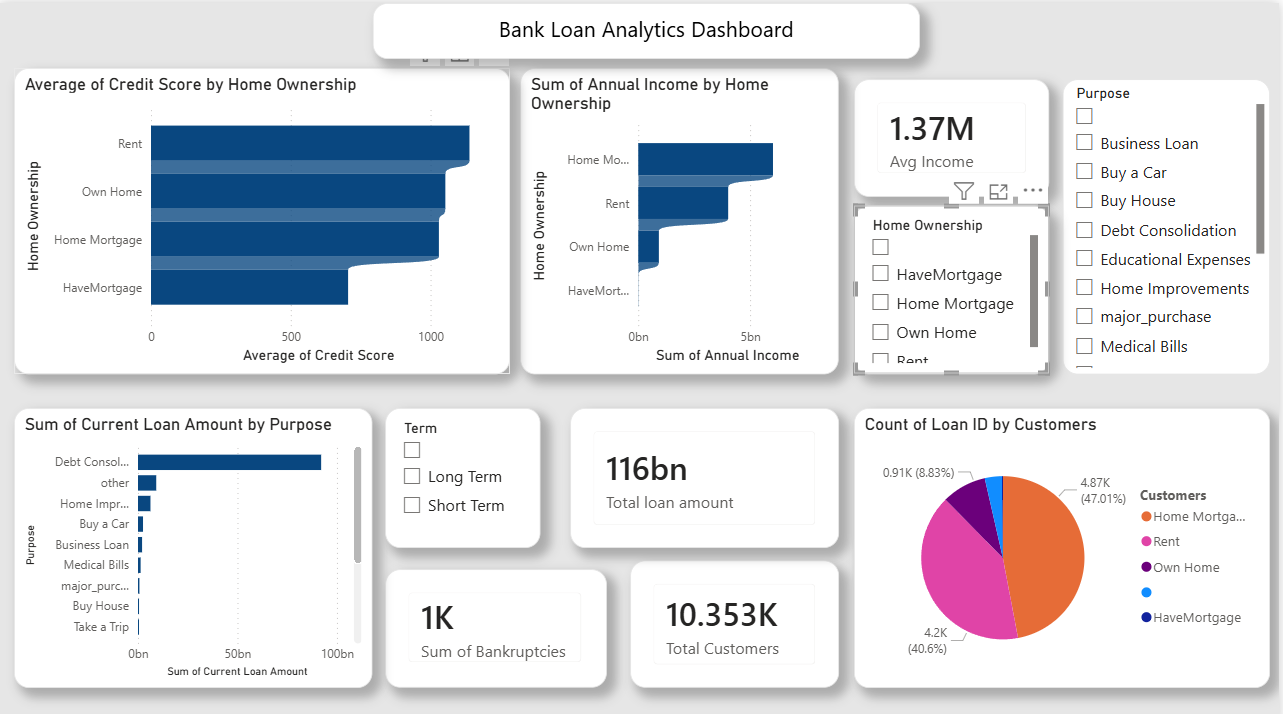

The page's visual inventory and layout, read from the dashboard file:
{"tool":"powerbi","page":{"name":"Page 1","canvas":[1280,720],"ordinal":0},"visuals":[{"type":"cardVisual","fields":{"Data":["CountNonNull(credit_test.Loan ID)"]},"box":[631.2,557.5,208.8,127.5],"z":0},{"type":"cardVisual","fields":{"Data":["Sum(credit_test.Current Loan Amount)"]},"box":[571.2,405,268.8,140],"z":1000},{"type":"cardVisual","fields":{"Data":["Avg(credit_test.Annual Income)"]},"box":[855,76.2,195,117.5],"z":2000},{"type":"cardVisual","fields":{"Data":["Sum(credit_test.Bankruptcies)"]},"box":[386.2,566.2,221.2,118.8],"z":3000},{"type":"clusteredBarChart","fields":{"Category":["credit_test.Purpose"],"Y":["Sum(credit_test.Current Loan Amount)"]},"box":[15,405,358.8,280],"z":4000},{"type":"pieChart","fields":{"Category":["credit_test.Home Ownership"],"Y":["CountNonNull(credit_test.Loan ID)"]},"box":[855,405,416.2,280],"z":5000},{"type":"barChart","fields":{"Category":["credit_test.Home Ownership"],"Y":["Sum(credit_test.Annual Income)"]},"box":[521.2,65,318.8,306.2],"z":6000},{"type":"slicer","fields":{"Values":["credit_test.Purpose"]},"box":[1063.8,76.2,207.5,295],"z":7000},{"type":"slicer","fields":{"Values":["credit_test.Home Ownership"]},"box":[855,202.5,195,168.8],"z":8000},{"type":"slicer","fields":{"Values":["credit_test.Term"]},"box":[386.2,405,155,140],"z":9000},{"type":"barChart","fields":{"Category":["credit_test.Home Ownership"],"Y":["Avg(credit_test.Credit Score)"]},"box":[15,65,496.2,306.2],"z":10000},{"type":"textbox","box":[373.8,0,547.5,56.2],"z":11000}]}

Visuals, with their boxes in screenshot pixels (x1, y1, x2, y2), scaled from the page's 1280x720 canvas onto the 1283x714 screenshot:
cardVisual - CountNonNull(credit_test.Loan ID): {"x1": 633, "y1": 553, "x2": 842, "y2": 679}
cardVisual - Sum(credit_test.Current Loan Amount): {"x1": 573, "y1": 402, "x2": 842, "y2": 540}
cardVisual - Avg(credit_test.Annual Income): {"x1": 857, "y1": 76, "x2": 1052, "y2": 192}
cardVisual - Sum(credit_test.Bankruptcies): {"x1": 387, "y1": 561, "x2": 609, "y2": 679}
clusteredBarChart - credit_test.Purpose x Sum(credit_test.Current Loan Amount): {"x1": 15, "y1": 402, "x2": 375, "y2": 679}
pieChart - credit_test.Home Ownership x CountNonNull(credit_test.Loan ID): {"x1": 857, "y1": 402, "x2": 1274, "y2": 679}
barChart - credit_test.Home Ownership x Sum(credit_test.Annual Income): {"x1": 522, "y1": 64, "x2": 842, "y2": 368}
slicer - credit_test.Purpose: {"x1": 1066, "y1": 76, "x2": 1274, "y2": 368}
slicer - credit_test.Home Ownership: {"x1": 857, "y1": 201, "x2": 1052, "y2": 368}
slicer - credit_test.Term: {"x1": 387, "y1": 402, "x2": 542, "y2": 540}
barChart - credit_test.Home Ownership x Avg(credit_test.Credit Score): {"x1": 15, "y1": 64, "x2": 512, "y2": 368}
textbox: {"x1": 375, "y1": 0, "x2": 923, "y2": 56}
